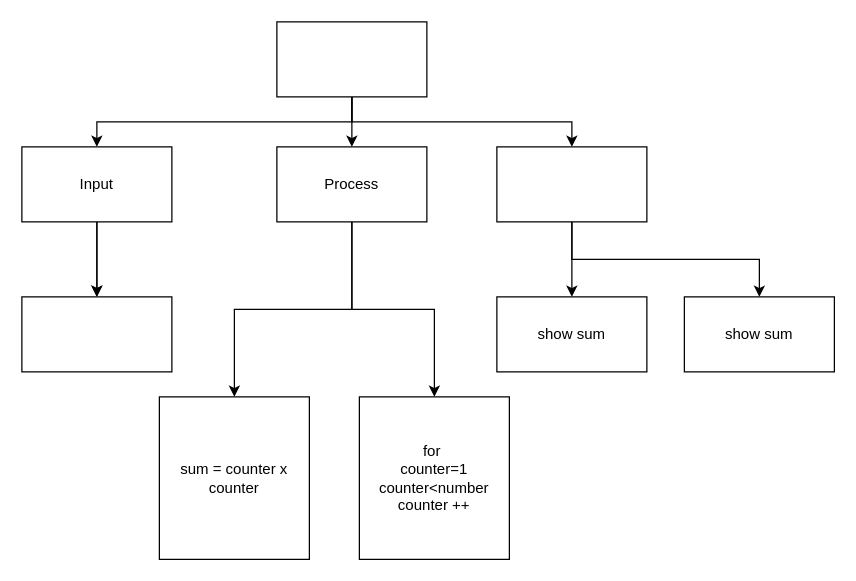
Image size: 856x581. Some labels were removed from this diagram. Each missing label, with the centre of its shape:
"input integer" goes at (96,334).
"number sum" goes at (351,59).
"Output" goes at (571,184).
